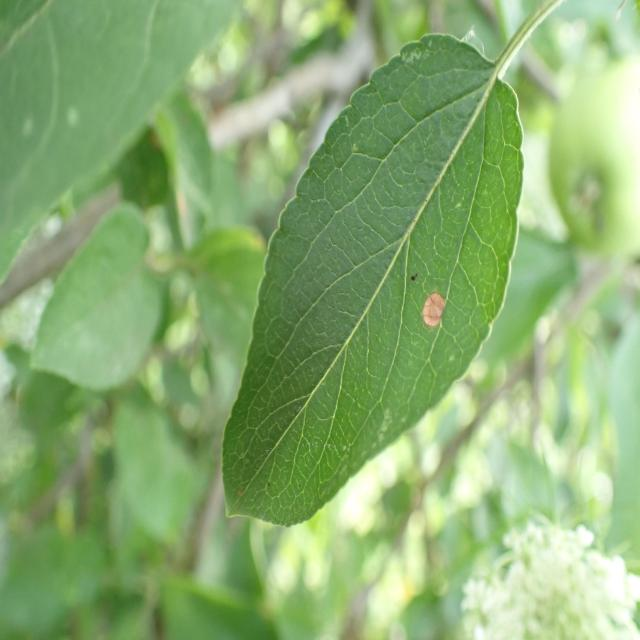Black Rot: (418, 273, 446, 350)
